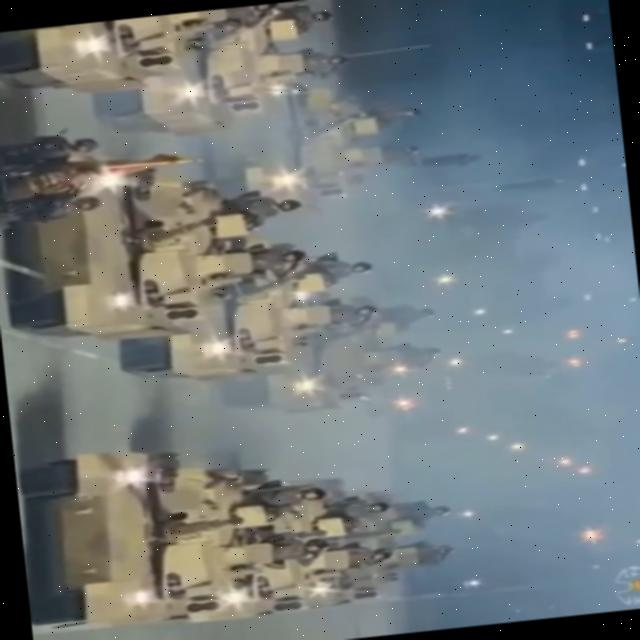north tank: (16, 418, 334, 640), (0, 132, 319, 350), (96, 213, 368, 383), (77, 0, 331, 148), (0, 7, 237, 98)
